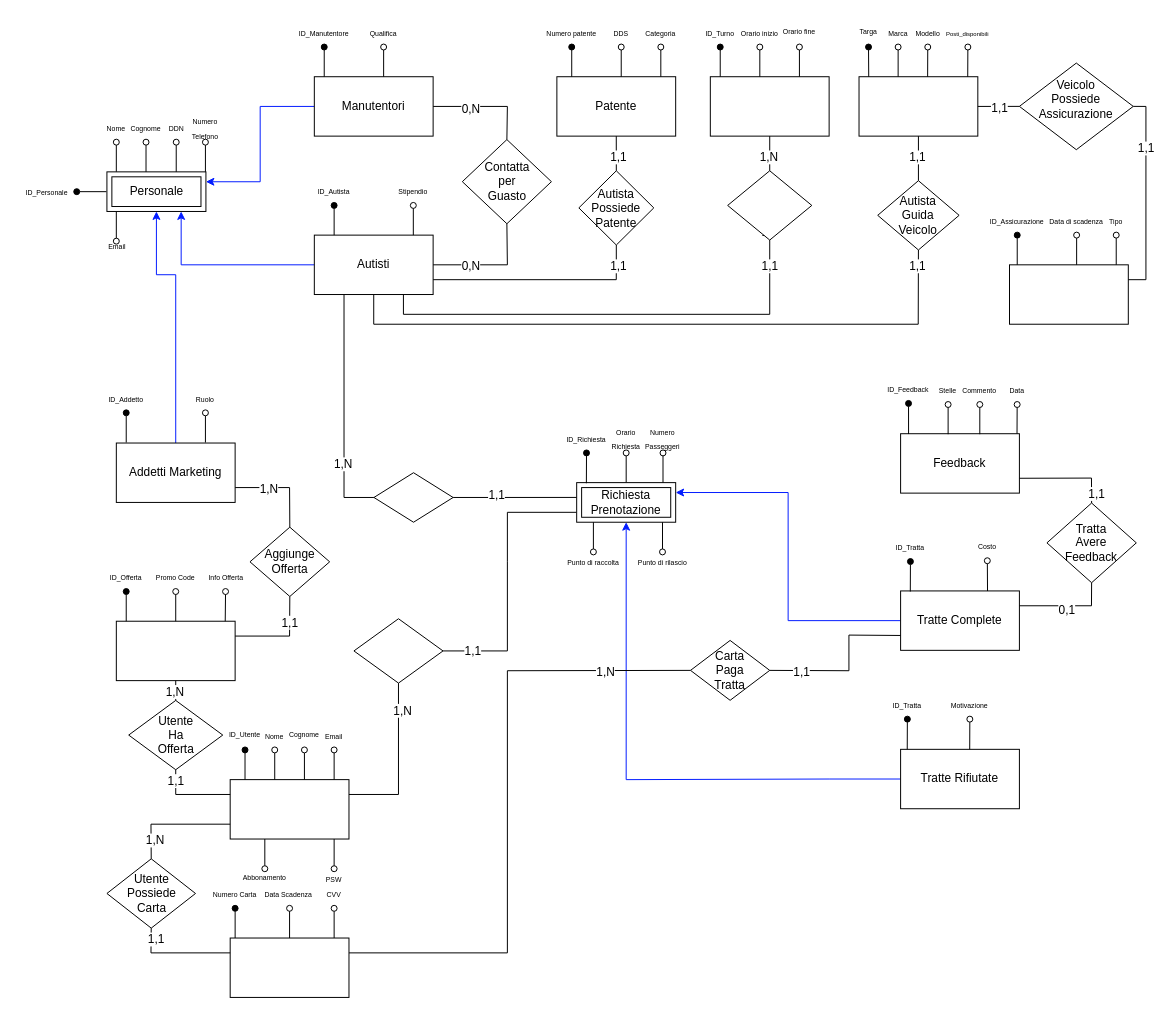
Image size: 1173x1015. Some labels were removed from this diagram. The shapes that lost their labels are listed below. From the top down, each one's centre as x and y in pixels, then its label:
At [769,106]: "Turni".
At [918,106]: "Veicoli".
At [769,205]: "Autista Avere Turni".
At [1068,294]: "Assicurazione".
At [413,497]: "Asseganto a".
At [175,650]: "Offerte".
At [398,650]: "Effettua Prenotazione".
At [289,809]: "Utenti".
At [289,967]: "Carta".
